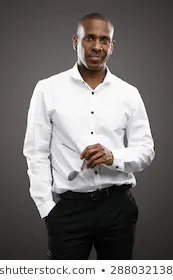F_shirt: (23, 67, 153, 223)
